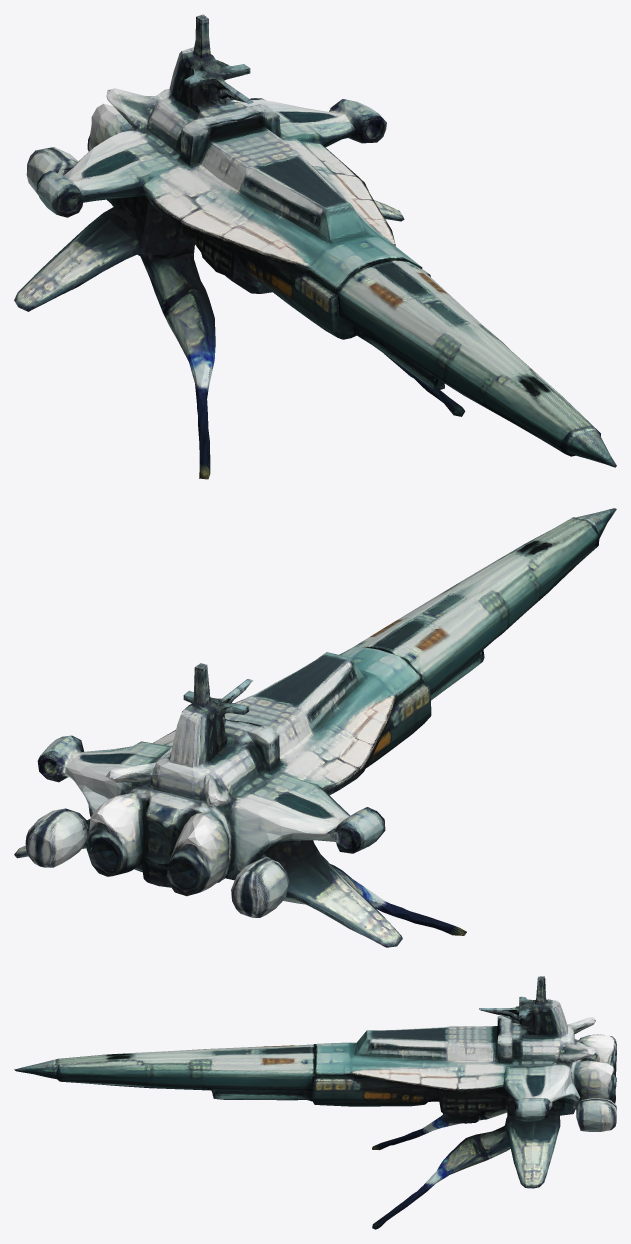
Rendered from Icepick Fighter.glb.
3 views of the same model, one above another, from view 1: azimuth 30°, elevation 25°; view 2: azimuth 150°, elevation 25°; view 3: azimuth 270°, elevation 25° (orthographic). The views are drawn at different scales.
Visible parts, largest first — view 1: world; view 2: world; view 3: world.
Boxes of the visible parts, x1,y1,x2,y2 form: world: (14, 14, 616, 479); world: (14, 508, 616, 947); world: (14, 976, 616, 1229).
Bounding box in the file's own units: 0.4641 × 0.3878 × 0.9994.
1 material, 1 textured.
